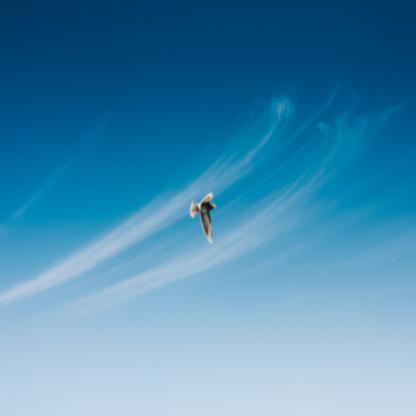bird: (190, 192, 217, 243)
